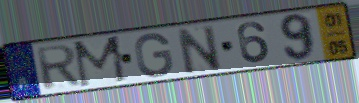6: (235, 21, 273, 65)
9: (277, 11, 317, 63)
G: (133, 31, 176, 79)
M: (70, 33, 131, 90)
N: (174, 23, 225, 76)
R: (33, 43, 84, 92)
